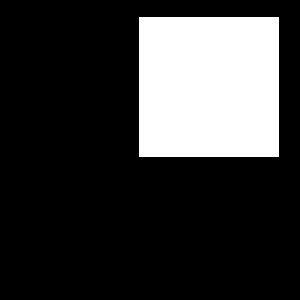circle: (139, 17, 279, 157)
triangle: (182, 110, 219, 147)
